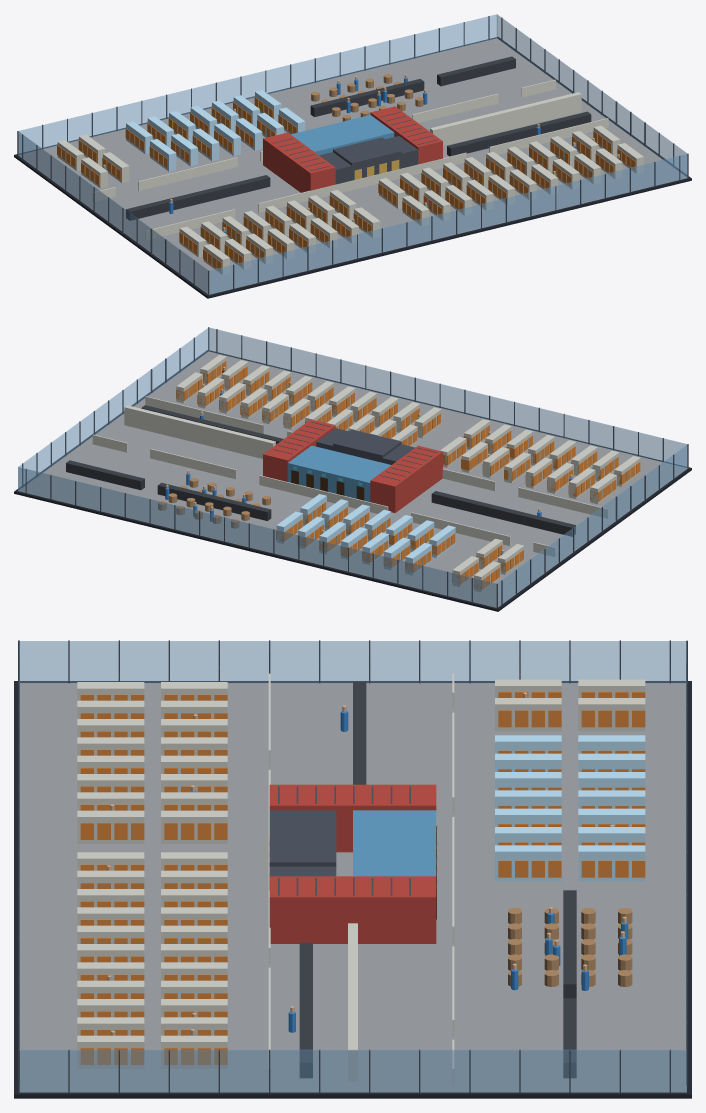
3 renders of one model, top to bottom at view 1: azimuth 30°, elevation 25°; view 2: azimuth 150°, elevation 25°; view 3: azimuth 270°, elevation 25°, orthographic. The views are drawn at different scales.
Parts seen in each view (by area): view 1: L2_floor_tile, L2_glass, L2_shelf, L2_goods, L2_wall, L2_core, L2_counter, L2_chiller, L2_stair, L2_slab, L2_wash, L2_table (+1 smaller); view 2: L2_floor_tile, L2_glass, L2_shelf, L2_goods, L2_wall, L2_core, L2_chiller, L2_counter, L2_stair, L2_slab, L2_wash, L2_table (+1 smaller); view 3: L2_floor_tile, L2_glass, L2_shelf, L2_goods, L2_chiller, L2_stair, L2_core, L2_slab, L2_counter, L2_wash, L2_table, L2_wall (+1 smaller).
Boxes of the visible parts, x1,y1,x2,y2 form: L2_floor_tile: [18, 38, 687, 294]; L2_glass: [18, 14, 687, 294]; L2_shelf: [57, 92, 643, 274]; L2_goods: [57, 97, 635, 271]; L2_wall: [92, 79, 608, 240]; L2_core: [17, 16, 688, 295]; L2_counter: [126, 56, 591, 220]; L2_chiller: [126, 90, 305, 171]; L2_stair: [263, 106, 442, 192]; L2_slab: [14, 37, 691, 298]; L2_wash: [291, 115, 394, 155]; L2_table: [311, 74, 423, 121]; L2_floor_tile: [18, 351, 687, 607]; L2_glass: [18, 327, 687, 607]; L2_shelf: [124, 355, 640, 592]; L2_goods: [176, 361, 640, 589]; L2_wall: [92, 396, 608, 556]; L2_core: [22, 327, 688, 608]; L2_chiller: [276, 494, 455, 575]; L2_counter: [66, 405, 575, 536]; L2_stair: [263, 419, 442, 512]; L2_slab: [14, 350, 691, 611]; L2_wash: [287, 445, 391, 501]; L2_table: [158, 478, 270, 528]; L2_floor_tile: [19, 683, 686, 1092]; L2_glass: [19, 641, 686, 1092]; L2_shelf: [77, 679, 645, 1081]; L2_goods: [80, 692, 645, 1064]; L2_chiller: [495, 735, 645, 881]; L2_stair: [269, 784, 436, 943]; L2_core: [18, 640, 687, 1092]; L2_slab: [14, 681, 691, 1098]; L2_counter: [299, 681, 576, 1078]; L2_wash: [353, 810, 436, 876]; L2_table: [508, 908, 632, 986]; L2_wall: [268, 673, 454, 1085].
Size of the model in its own units: 58.6 by 3.37 by 40.6.
